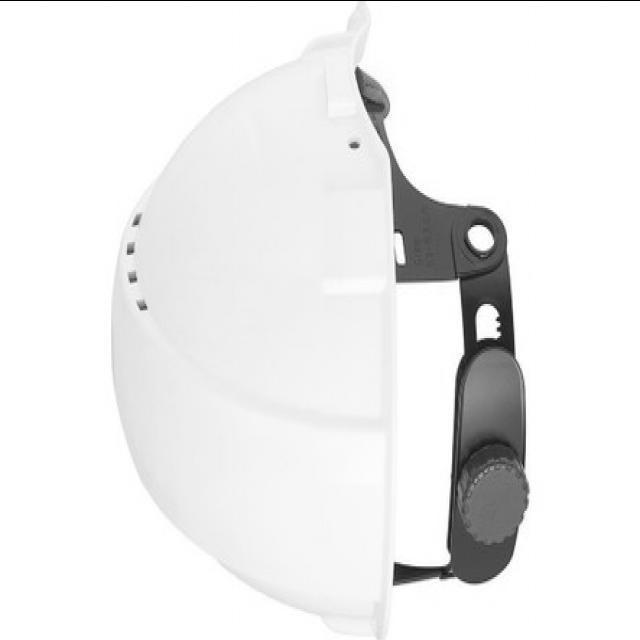safety_helmet: (110, 0, 532, 640)
